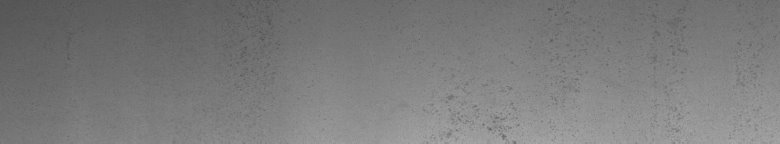ib: (424, 8, 558, 136)
